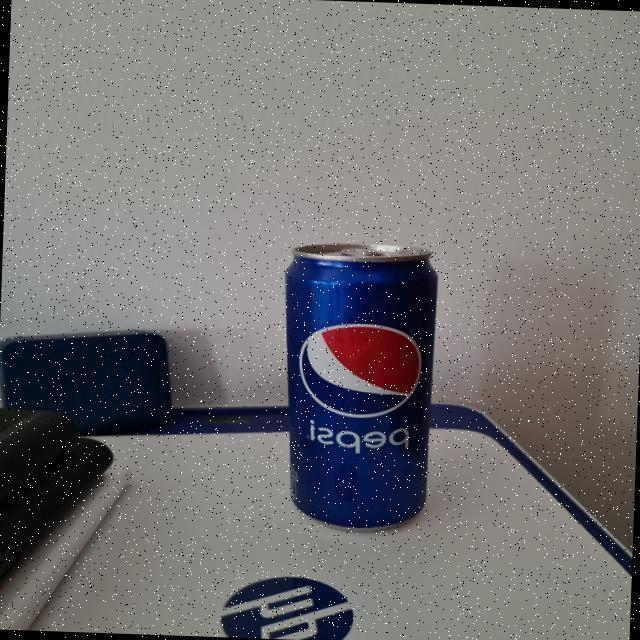metal-can: (280, 238, 445, 537)
